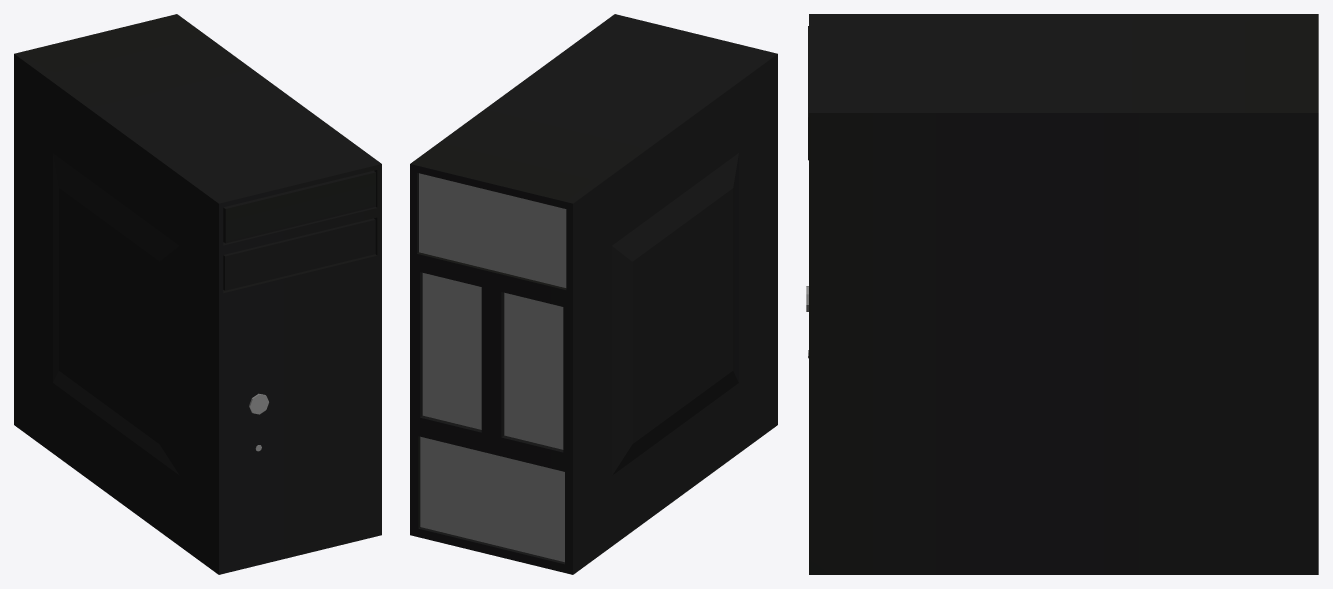
File: desktop-torre.glb
3 renders of one model, left to right at view 1: azimuth 30°, elevation 25°; view 2: azimuth 150°, elevation 25°; view 3: azimuth 270°, elevation 25°, orthographic. The views are drawn at different scales.
Parts seen in each view (by area): view 1: Computer; view 2: Computer; view 3: Computer.
Part boxes in pixels (x1,y1,x2,y2): Computer: (14, 14, 381, 574); Computer: (410, 14, 777, 574); Computer: (806, 14, 1318, 574).
Size of the model in its own units: 0.2016 by 0.42 by 0.4221.
1 material, 1 textured.
